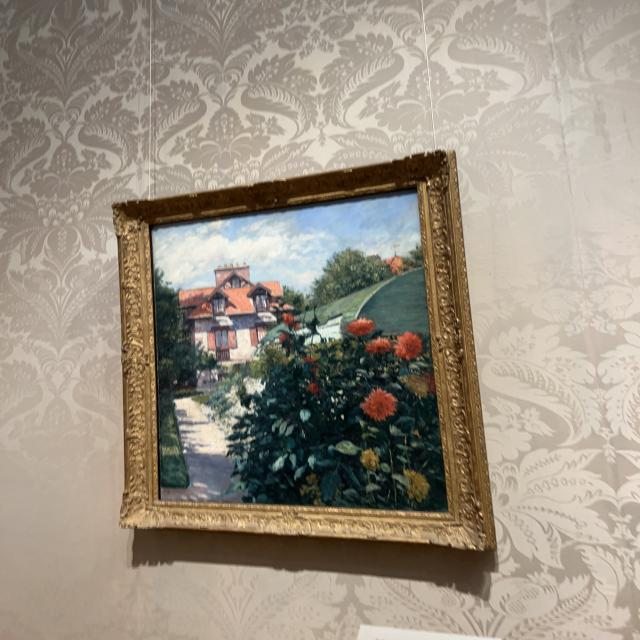summer: (153, 190, 450, 513)
